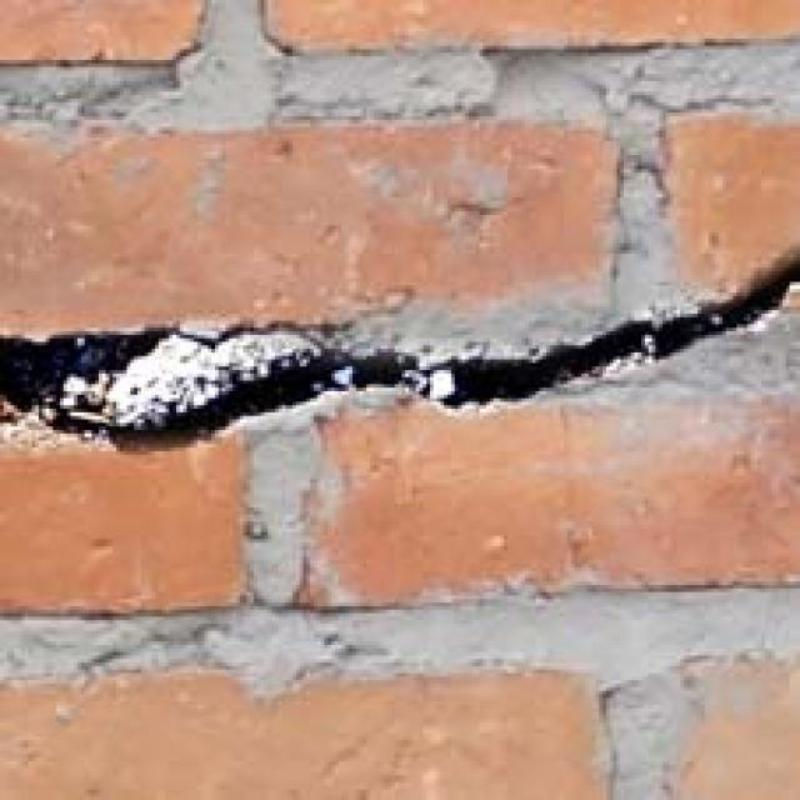pothole: (38, 255, 799, 443), (0, 319, 327, 410)
